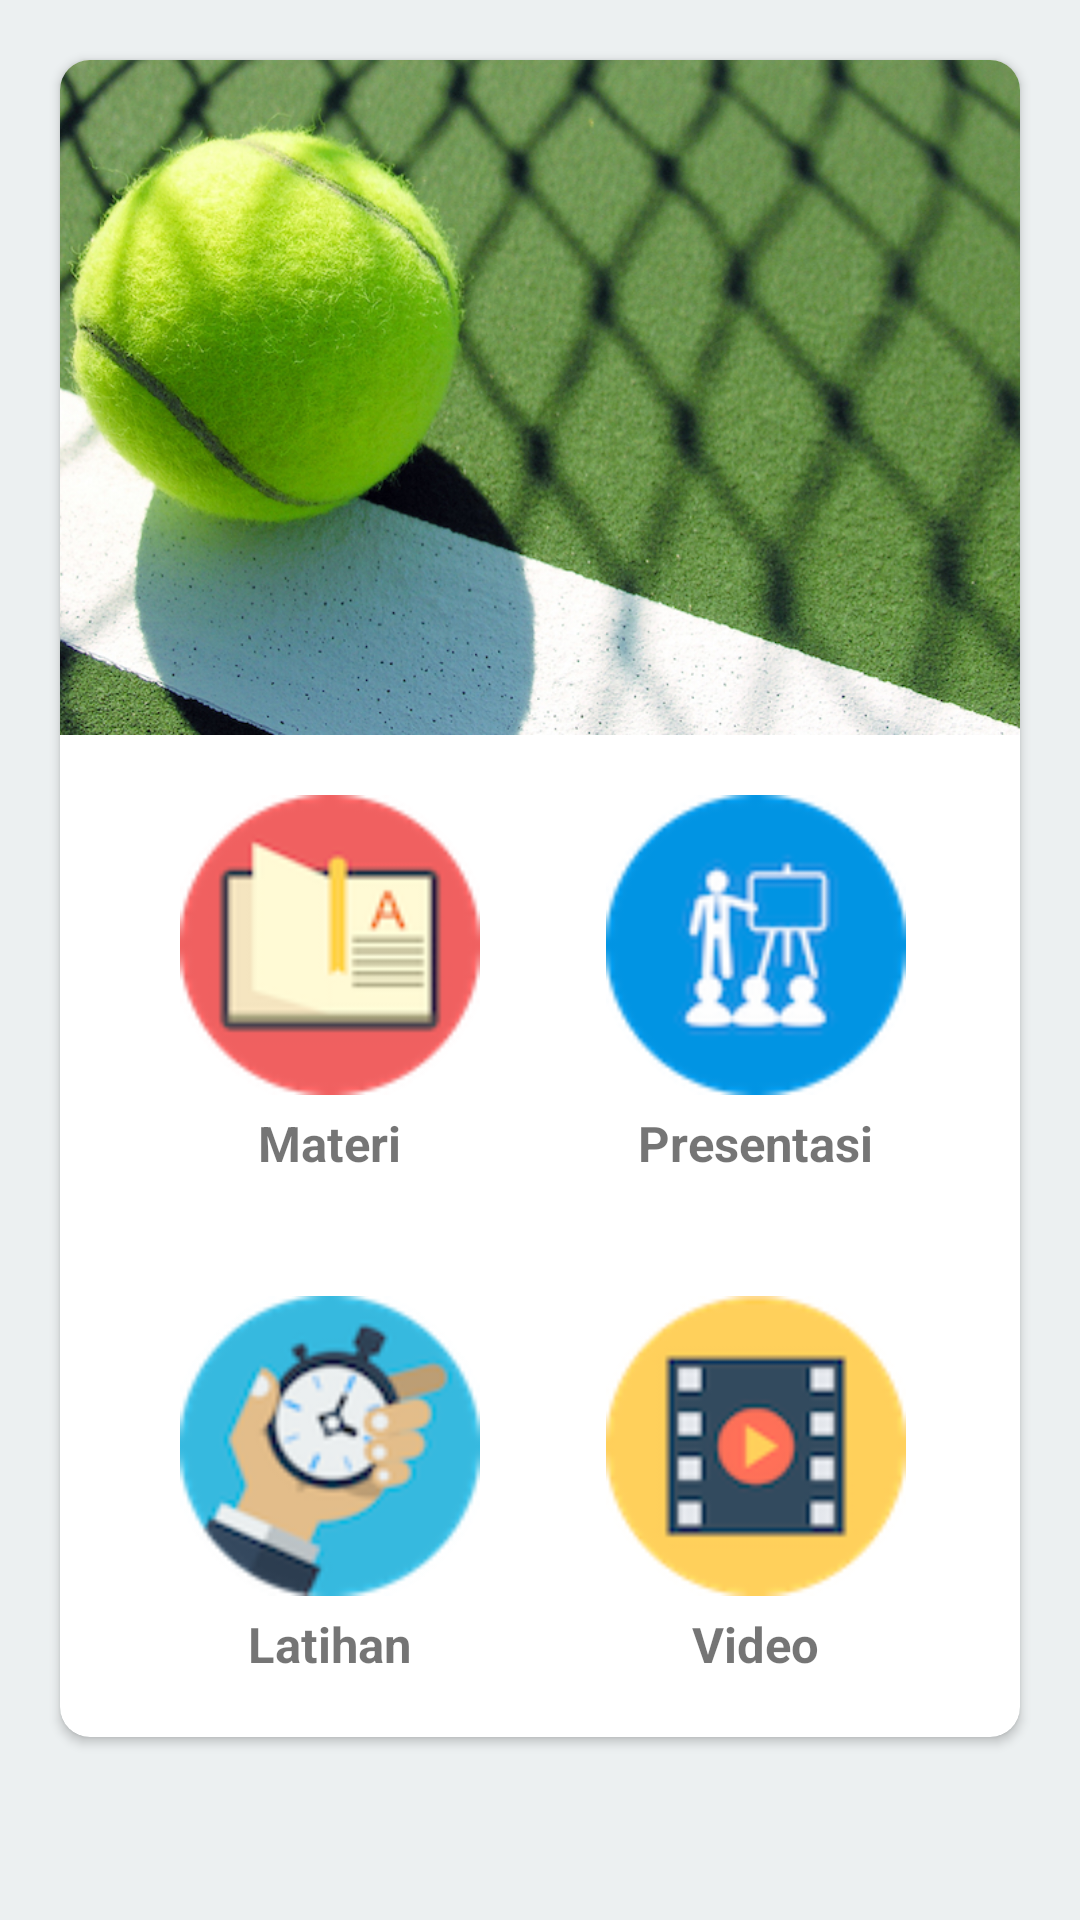

Icon bounding boxes for this 1080px x 1920px phone screenshot, format (x1, y1, x2, y2):
stopwatch: (180, 1296, 480, 1596)
